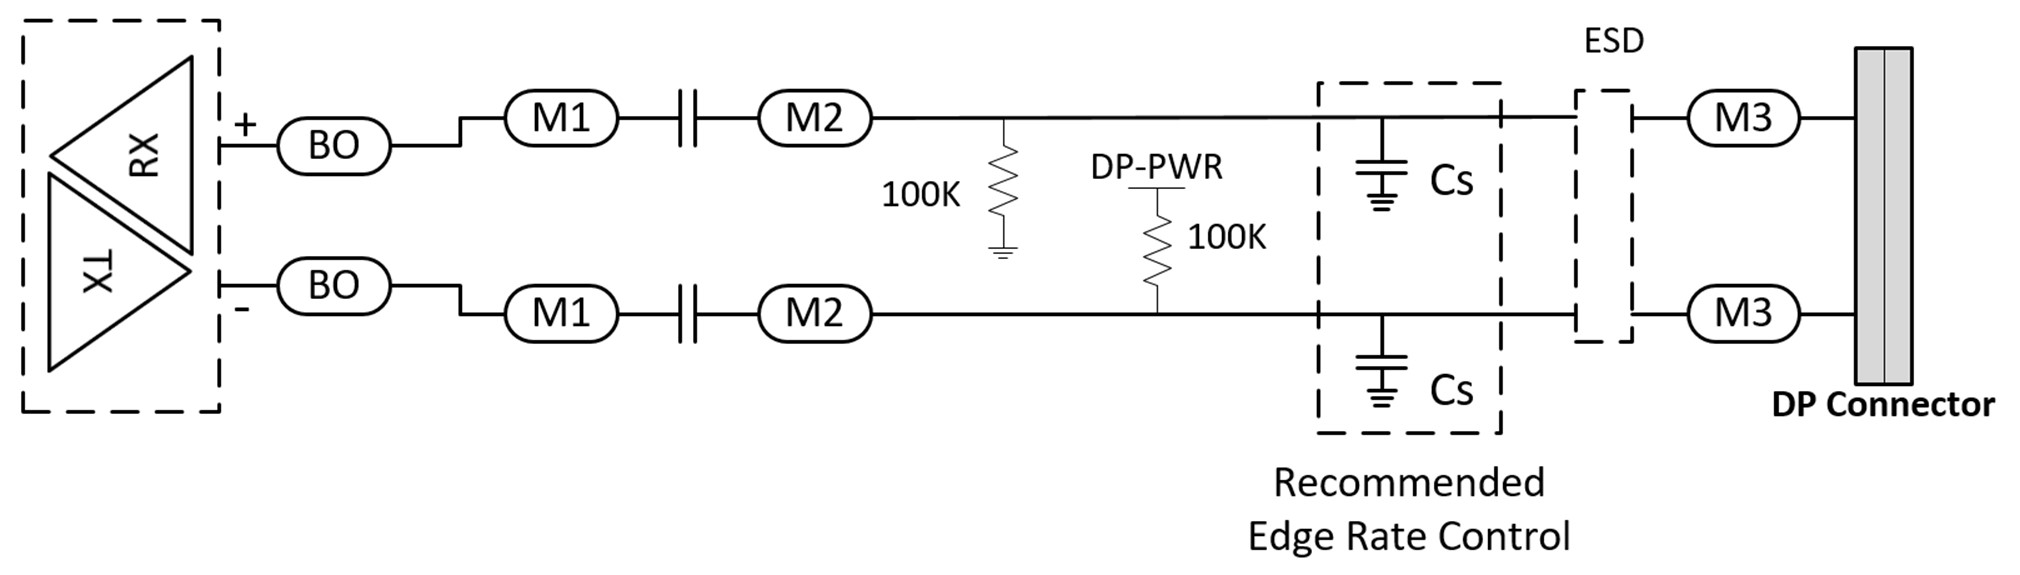capacitor: (669, 273, 707, 352), (667, 83, 706, 153), (1351, 344, 1418, 376), (1351, 150, 1415, 182)
dotted_rectangle: (13, 6, 227, 422), (1301, 68, 1516, 440), (1561, 85, 1648, 358)
ground: (1360, 379, 1403, 409), (1366, 187, 1407, 217)
oval: (497, 84, 627, 159), (273, 251, 399, 324), (269, 108, 393, 180), (1681, 278, 1802, 349), (752, 86, 882, 150), (757, 280, 875, 349), (502, 280, 618, 349), (1681, 83, 1800, 150)
power: (1125, 180, 1189, 204)
rectangle: (1846, 37, 1929, 391)
resistor: (971, 134, 1023, 220), (1138, 206, 1179, 289)
triangle: (32, 164, 198, 391), (44, 50, 215, 259)
